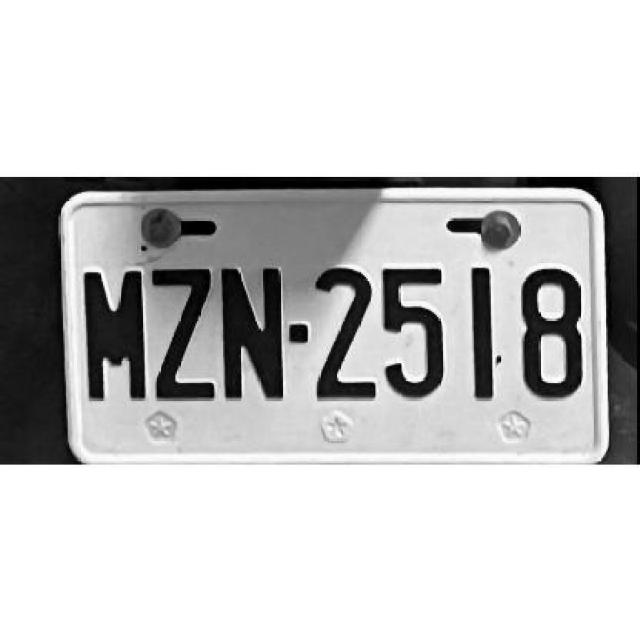-: (289, 319, 311, 343)
1: (466, 266, 496, 400)
2: (310, 263, 372, 405)
5: (382, 262, 444, 400)
8: (520, 262, 583, 402)
M: (82, 269, 146, 402)
N: (220, 263, 286, 400)
Z: (151, 262, 215, 402)
